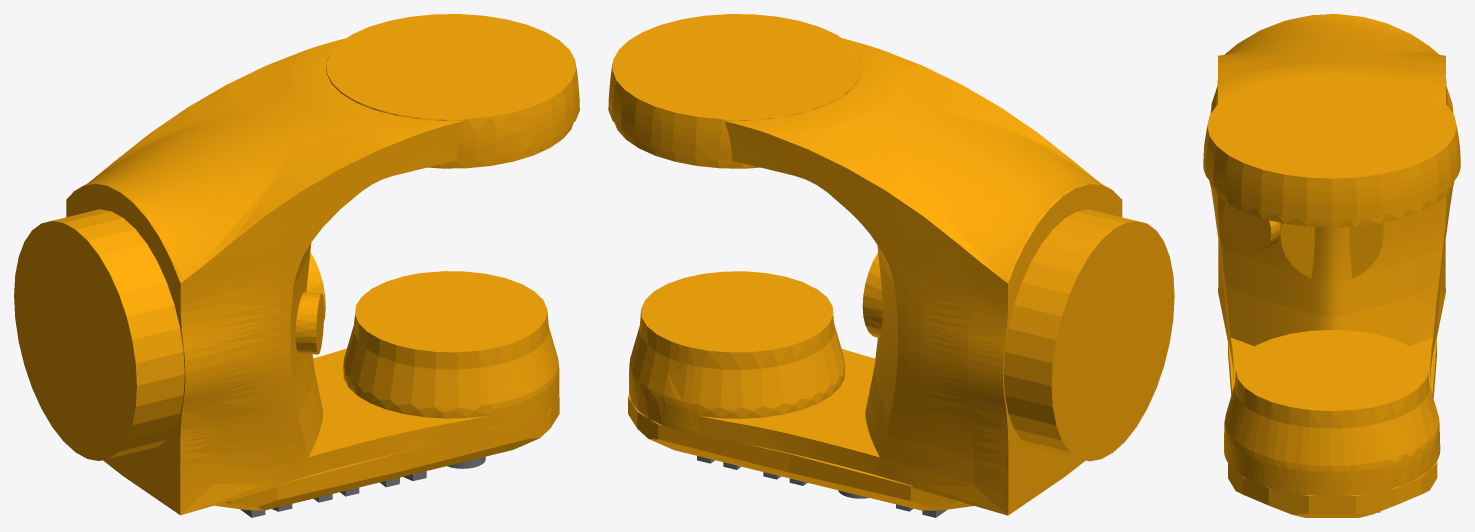
3 views of the same model, side by side, from view 1: azimuth 30°, elevation 25°; view 2: azimuth 150°, elevation 25°; view 3: azimuth 270°, elevation 25° (orthographic).
Parts seen in each view (by area): view 1: /node1/Part__Feature004_001-mesh/0; view 2: /node1/Part__Feature004_001-mesh/0; view 3: /node1/Part__Feature004_001-mesh/0.
Boxes of the visible parts, x1,y1,x2,y2 form: /node1/Part__Feature004_001-mesh/0: (14,14,579,515); /node1/Part__Feature004_001-mesh/0: (608,14,1174,515); /node1/Part__Feature004_001-mesh/0: (1203,14,1460,517).
Size of the model in its own units: 0.458 by 0.3409 by 0.21.
